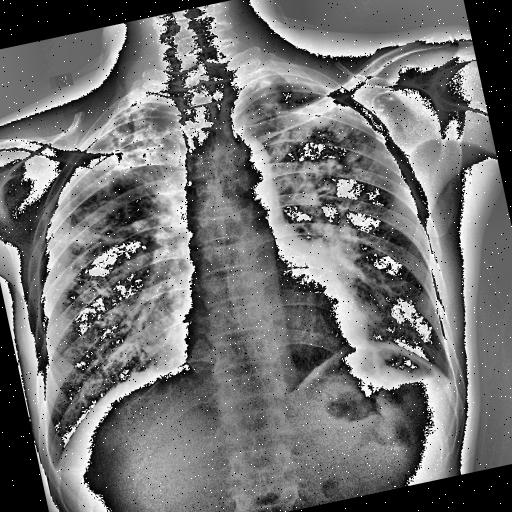1- Atelectasis: (26, 98, 198, 312)
13- Pulmonary fibrosis: (245, 71, 446, 302), (0, 115, 211, 335), (26, 98, 198, 312), (240, 51, 400, 205)
6- Infiltration: (12, 100, 220, 336), (26, 98, 198, 312), (234, 66, 403, 248), (240, 51, 400, 205)
